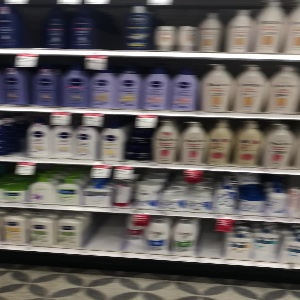void: (83, 211, 125, 256), (197, 219, 224, 260)
